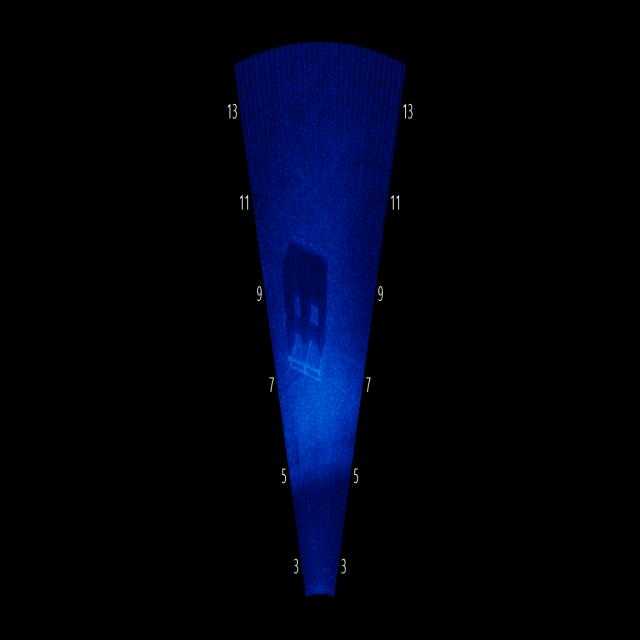square: (271, 218, 334, 385)
